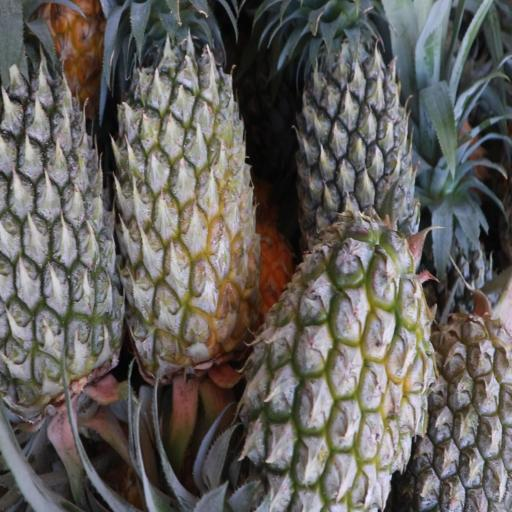------------------------------: (242, 230, 422, 504), (114, 6, 249, 360)
